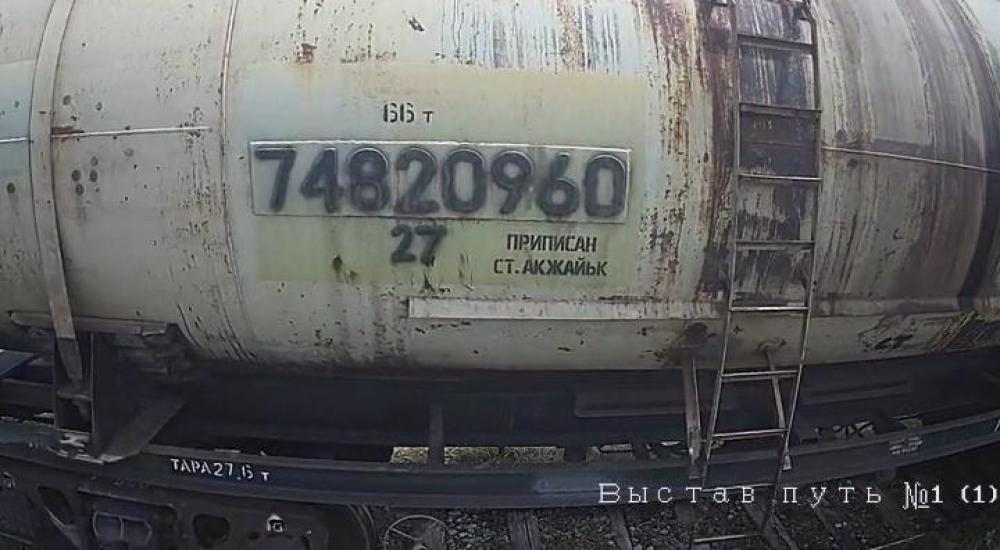Wagon-number: (250, 141, 630, 225)
